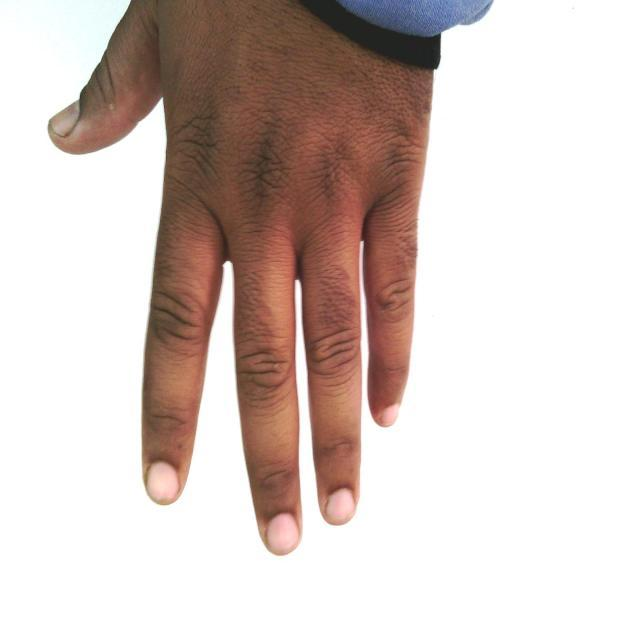Fingernail: (147, 462, 179, 502), (268, 514, 298, 554), (326, 489, 354, 523), (50, 104, 78, 137), (380, 406, 398, 427)
